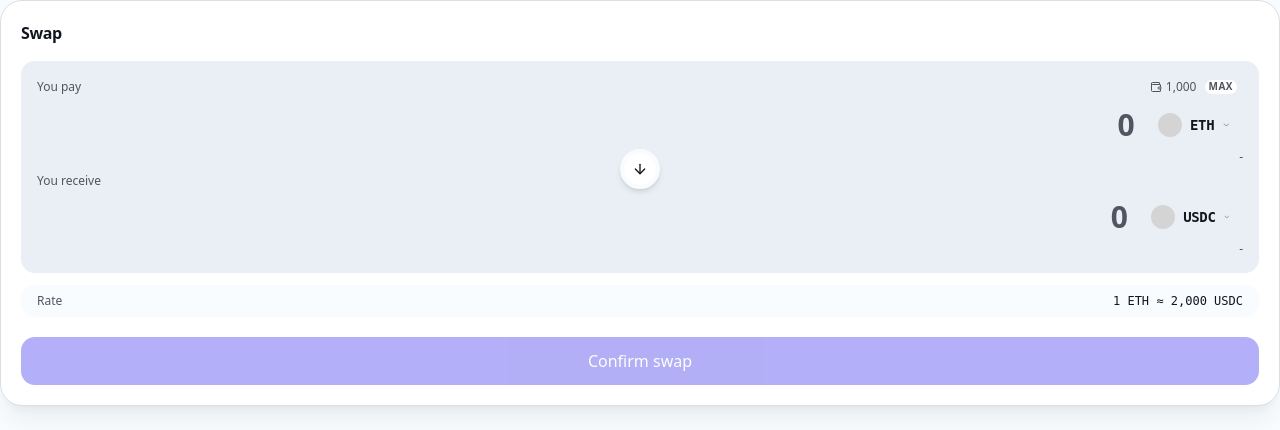
Test: <SwapForm /> › MAX button fills in the from-token balance
Click the button with aria-label "Use maximum balance". click: (1193, 87)
box: [1144,77,1243,97]
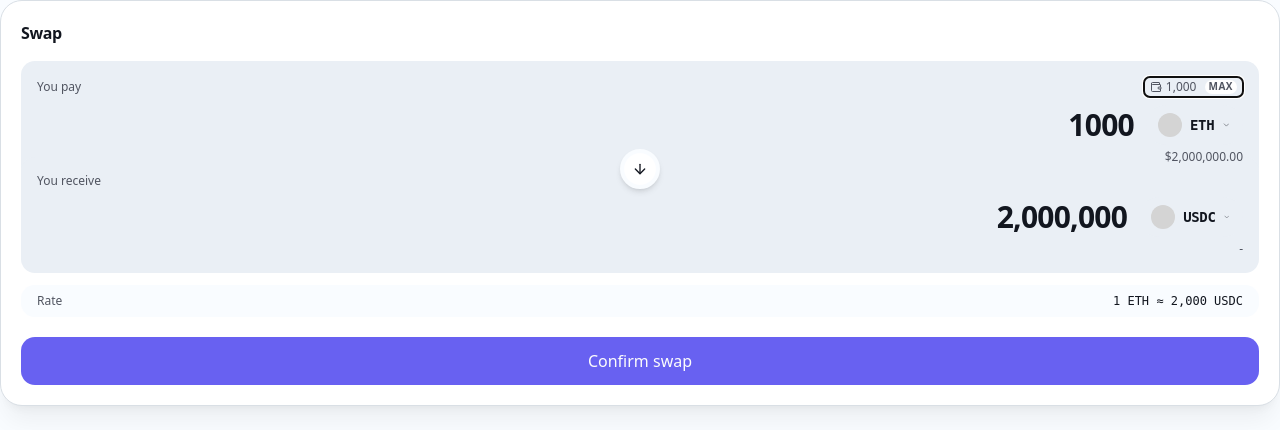
Expected: the field named "You pay amount" is not empty, [37,107,1134,143]
